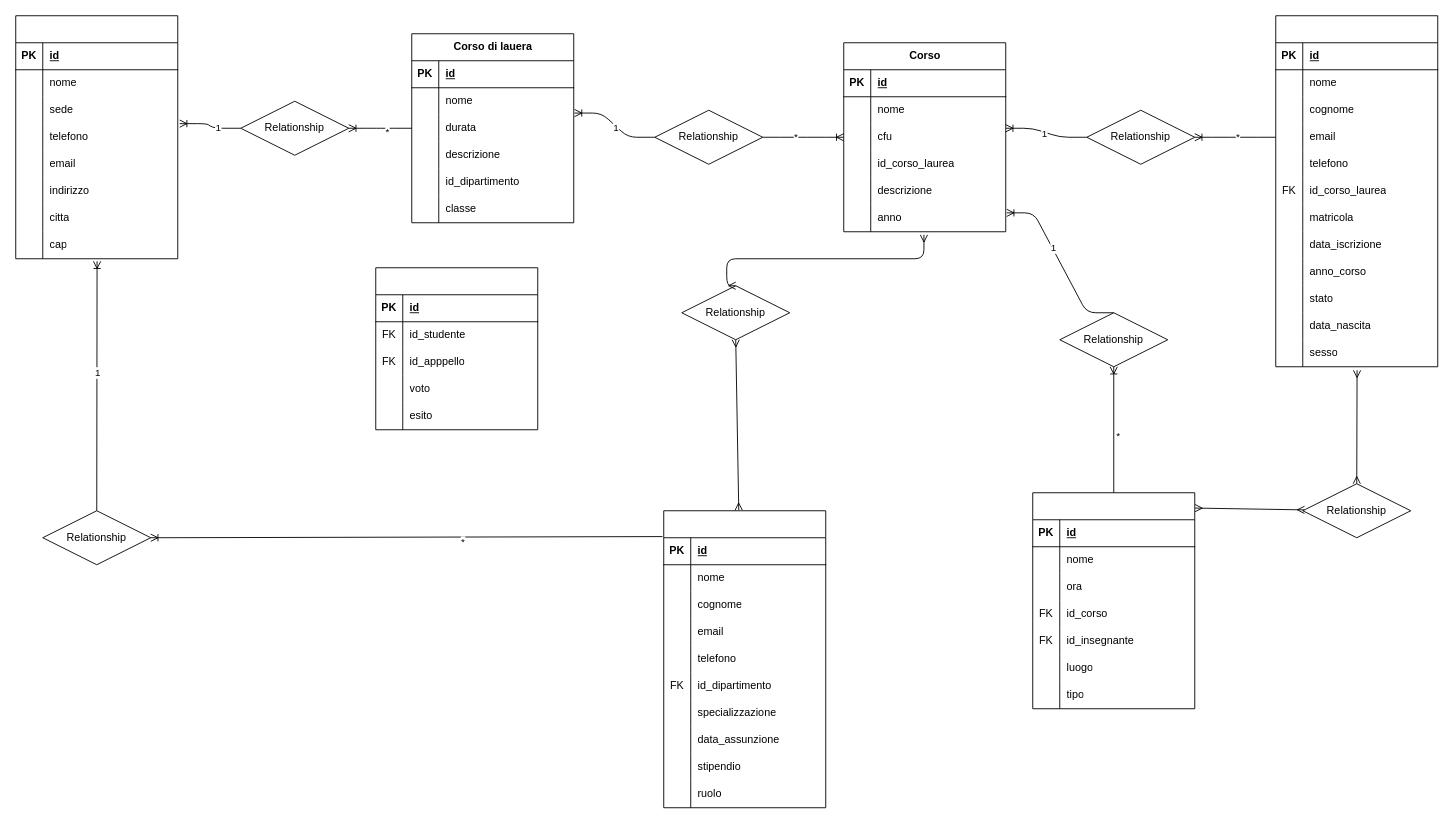
Image size: 1454x824. Some labels were removed from this diagram. Each missing label, with the box of its shape:
appello d'esame: (1032, 492, 1195, 709)
Dipartimento: (15, 15, 178, 259)
insegnante: (663, 510, 826, 808)
Iscrizione Esame: (375, 267, 538, 430)
studente: (1275, 15, 1438, 367)
